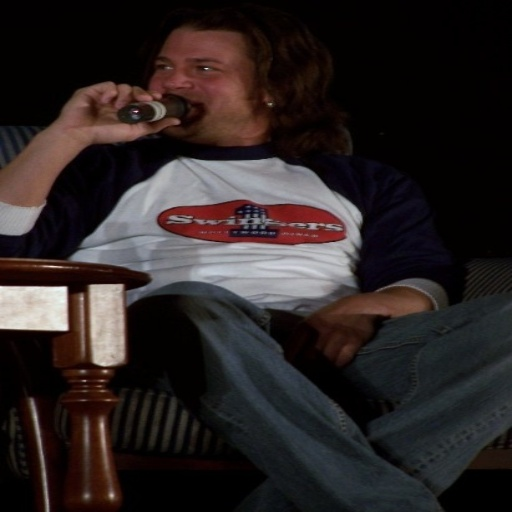hand: (7, 77, 133, 185), (303, 297, 382, 370)
